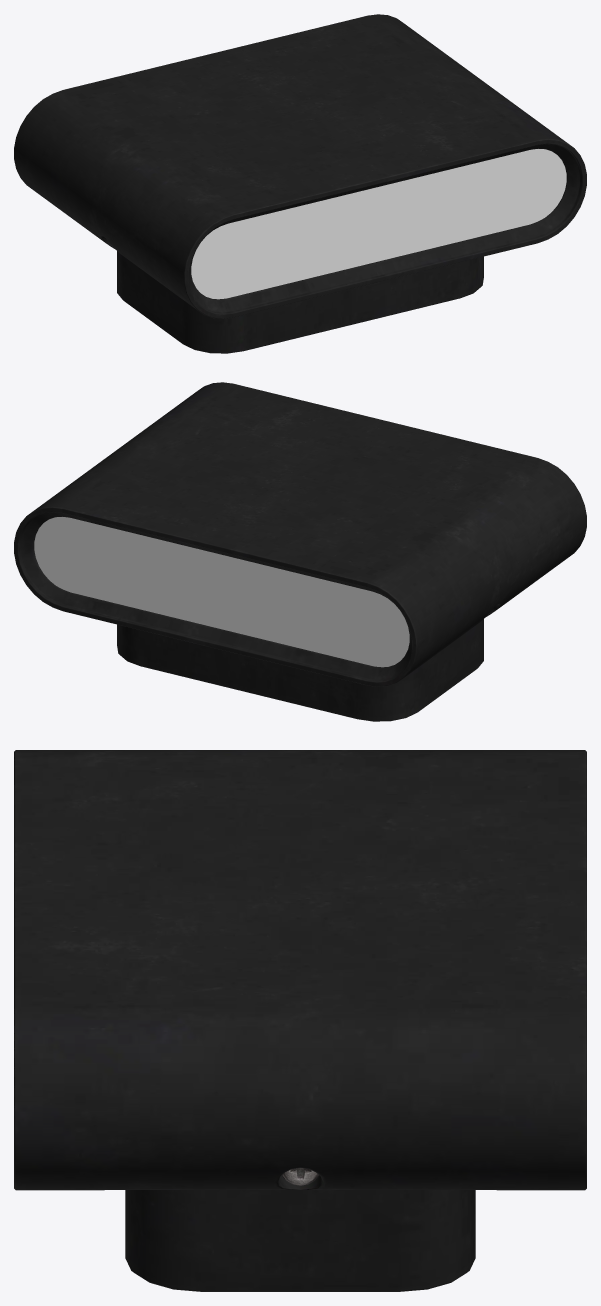
The model's file is wall_light.glb.
3 renders of one model, top to bottom at view 1: azimuth 30°, elevation 25°; view 2: azimuth 150°, elevation 25°; view 3: azimuth 270°, elevation 25°, orthographic. The views are drawn at different scales.
Visible parts, largest first — view 1: Lamp, Glass; view 2: Lamp, Glass; view 3: Lamp.
Boxes of the visible parts, x1,y1,x2,y2 form: Lamp: (14, 14, 586, 353); Glass: (191, 149, 566, 299); Lamp: (14, 382, 586, 721); Glass: (34, 517, 409, 667); Lamp: (14, 750, 586, 1291).
Size of the model in its own units: 0.1224 by 0.05 by 0.09.
2 materials, 1 textured.
